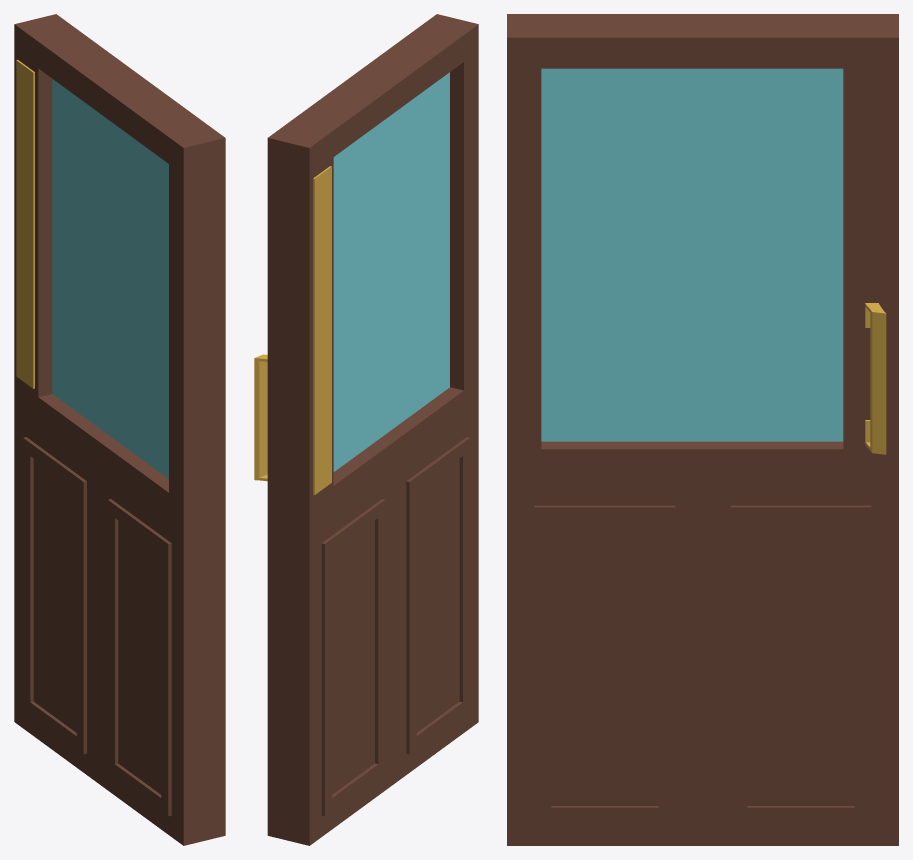
Rendered from SM_Door_Left.fbx.
3 renders of one model, left to right at view 1: azimuth 30°, elevation 25°; view 2: azimuth 150°, elevation 25°; view 3: azimuth 270°, elevation 25°, orthographic. The views are drawn at different scales.
Parts seen in each view (by area): view 1: SK_Door_Left; view 2: SK_Door_Left; view 3: SK_Door_Left.
Boxes of the visible parts, x1,y1,x2,y2 form: SK_Door_Left: (14, 14, 225, 845); SK_Door_Left: (254, 14, 478, 845); SK_Door_Left: (507, 14, 898, 845).
Size of the model in its own units: 19.22 by 200 by 87.67.
